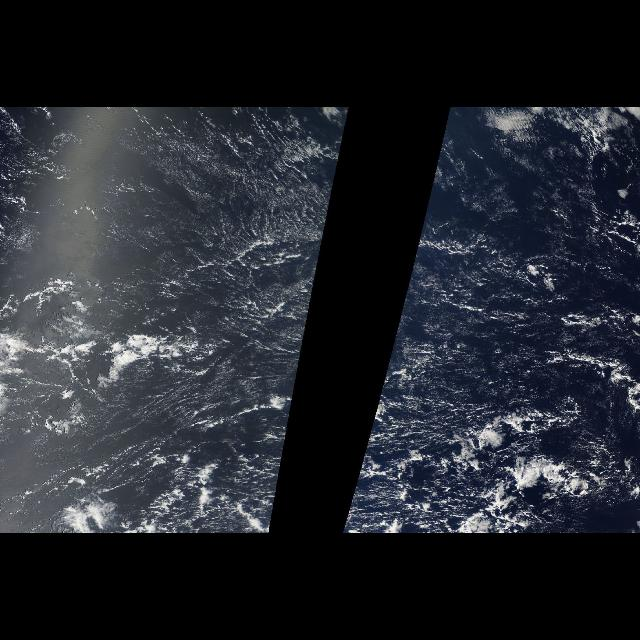Gravel: (342, 243, 634, 533), (138, 243, 322, 533)
Sugar: (5, 112, 349, 410), (373, 112, 475, 410)
